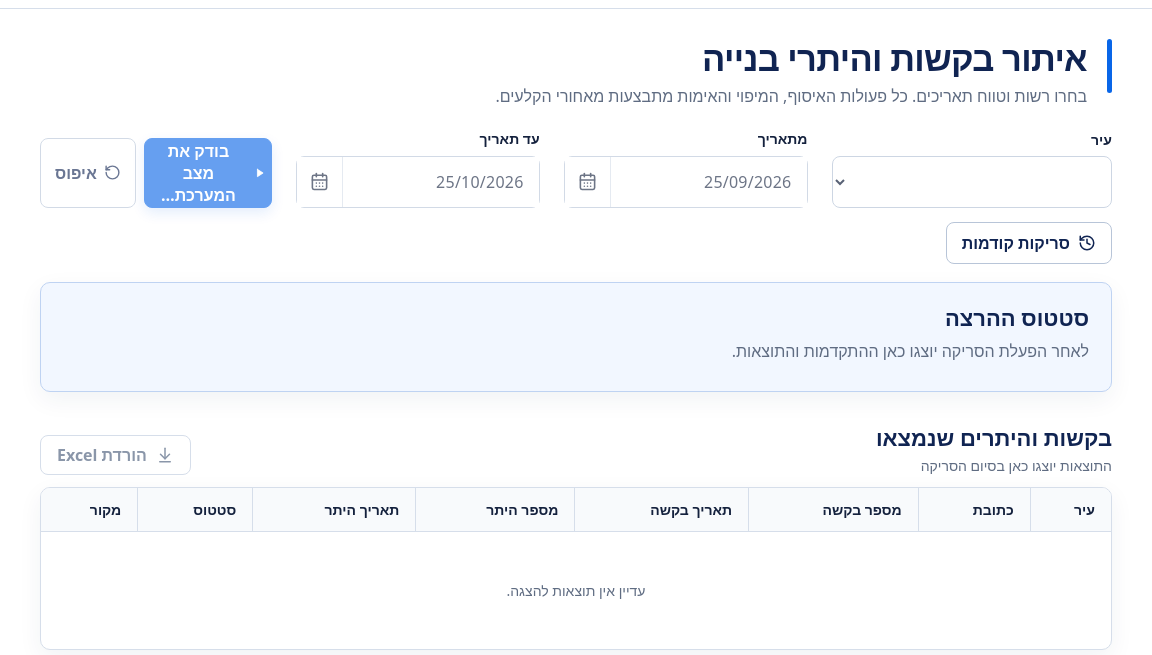
shows loading and discards responses from an older historical selection
Click the button "סריקות קודמות".
click(1029, 243)  # box [946,222,1112,264]
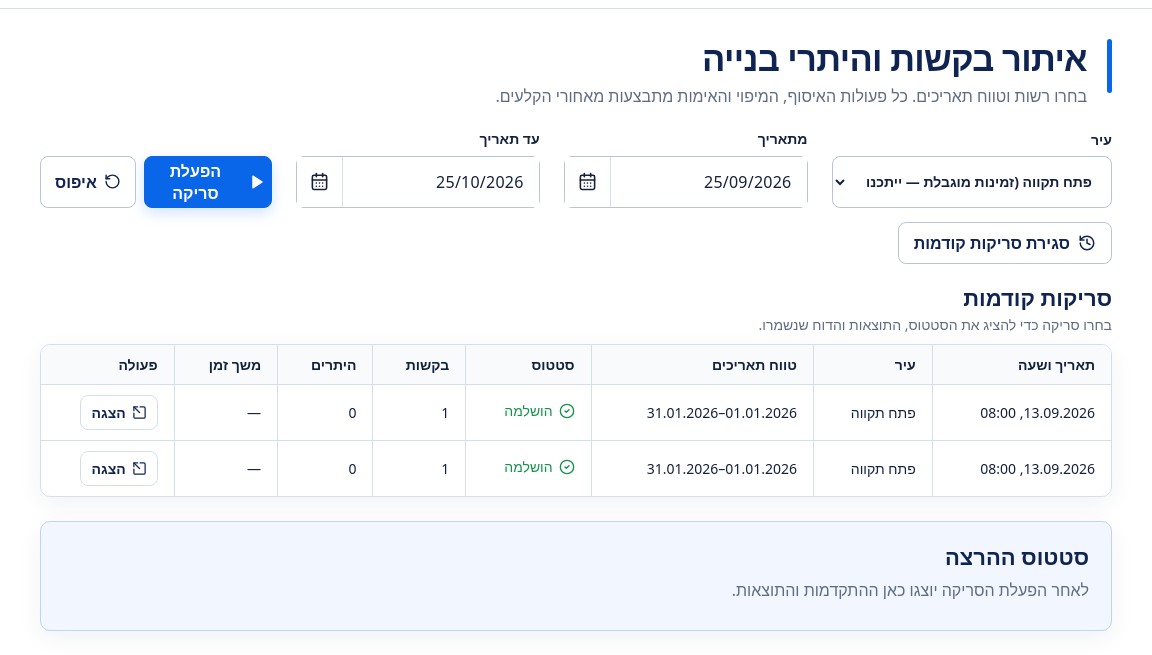
Now the number of buttons "הצגה" is 2
Click the 1st button "הצגה".
click(119, 412)  # box [80,395,158,430]
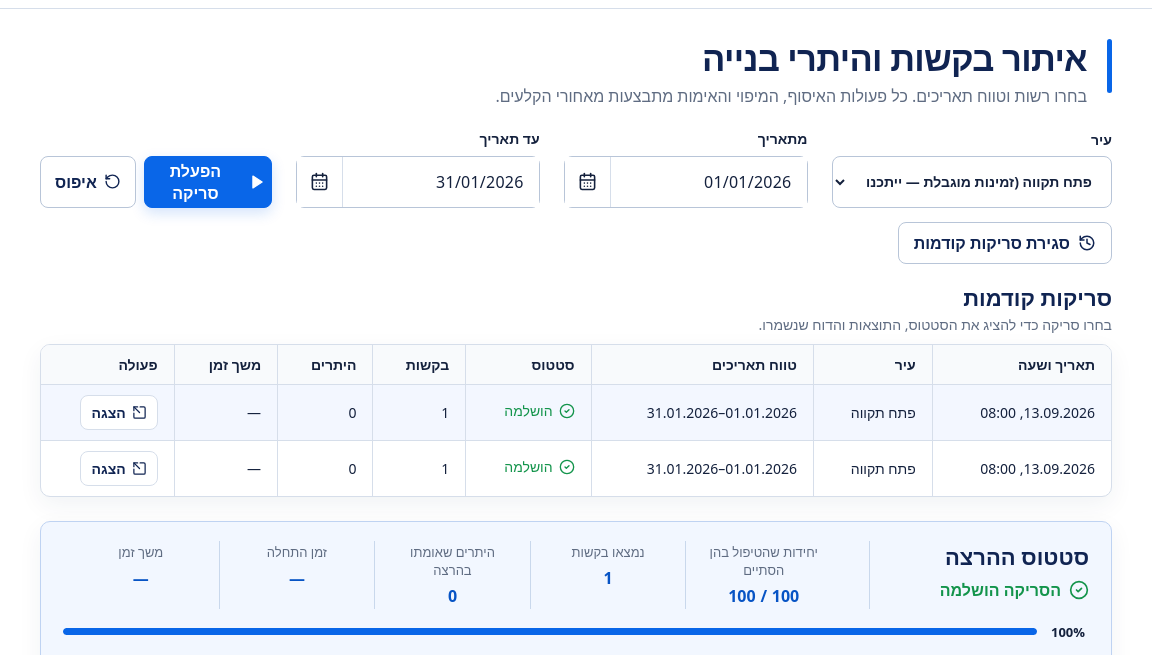
Click the 2nd button "הצגה".
click(119, 468)  # box [80,451,158,486]
(page scrolled)
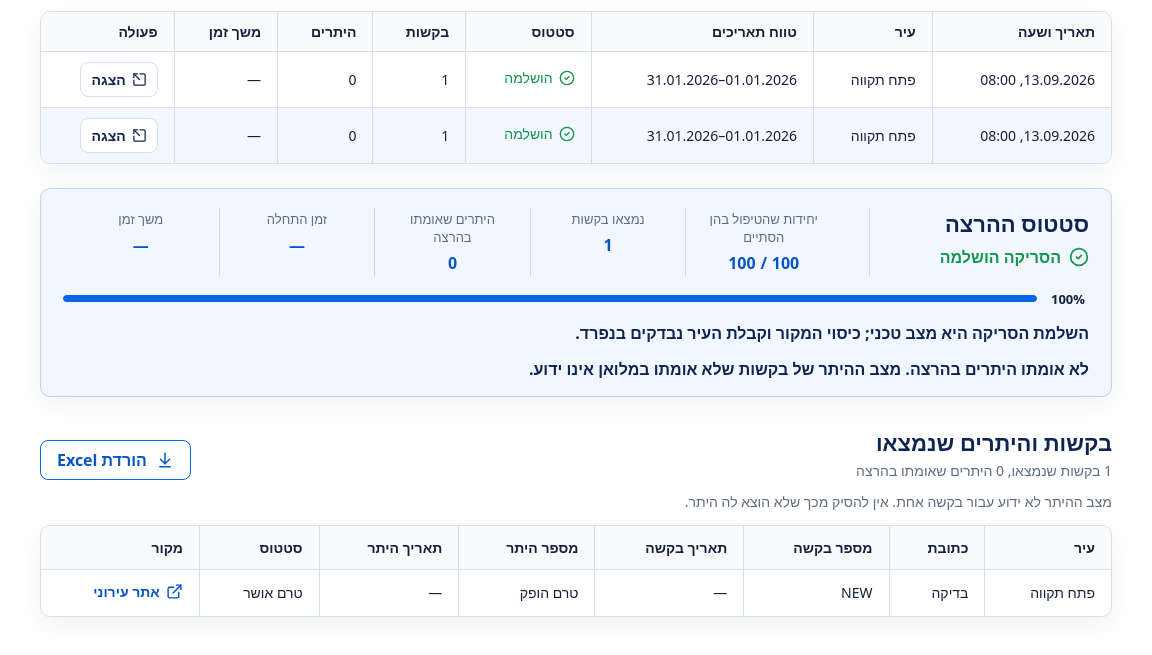
Now the text "NEW" is shown, box [744,569,889,616]
